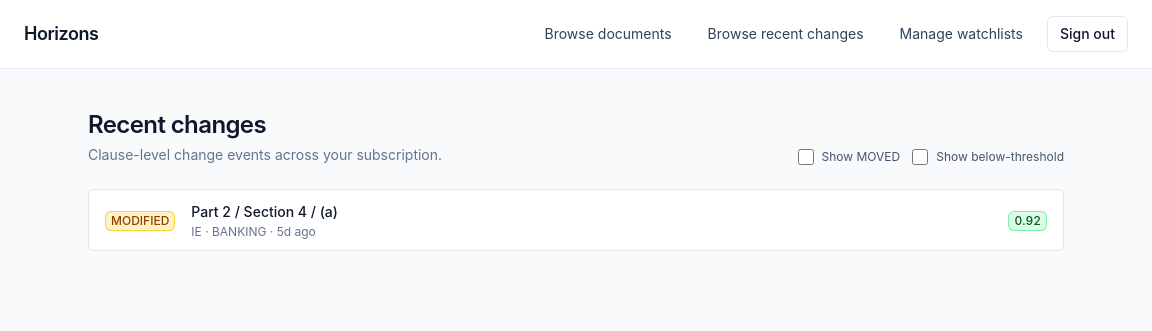
Test: ChangesView › hides MOVED events by default and shows them when the toggle is on
Expected: the number of list items with test id "change-row" is 1, x1=105 y1=203 x2=1047 y2=239
Click the checkbox with test id "toggle-moved".
click(806, 157)  # box x1=798 y1=149 x2=814 y2=165
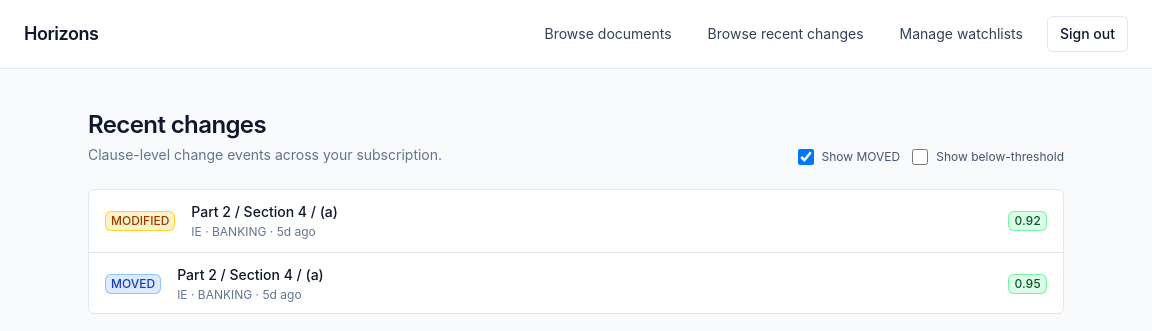
Expected: the number of list items with test id "change-row" is 2, x1=89 y1=190 x2=1063 y2=253; x1=105 y1=266 x2=1047 y2=302
